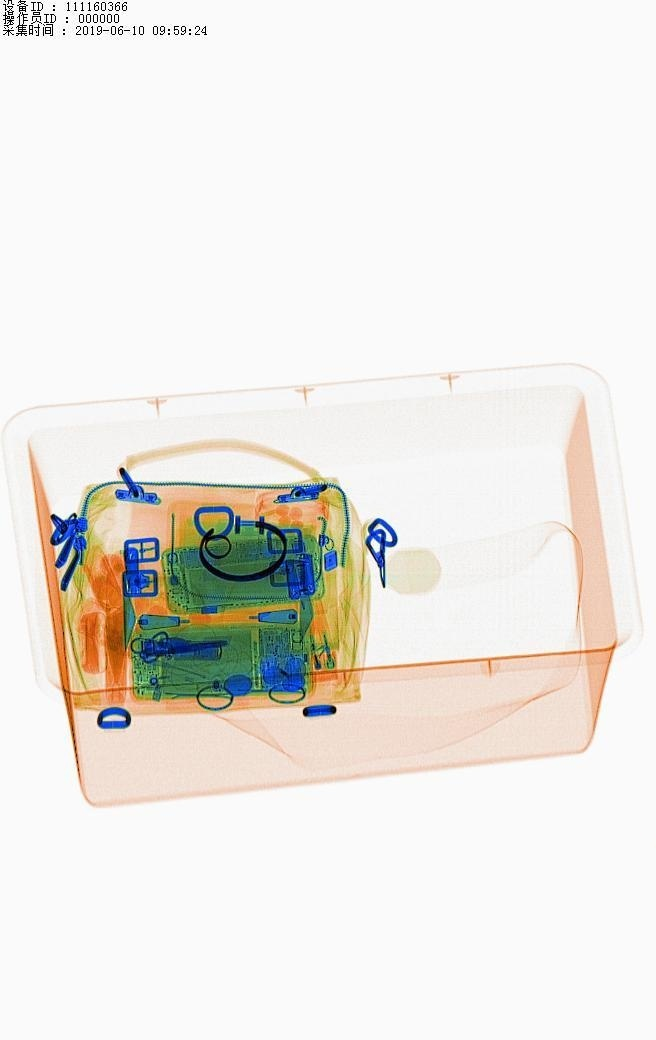NonmetallicFire: (294, 587, 355, 684)
